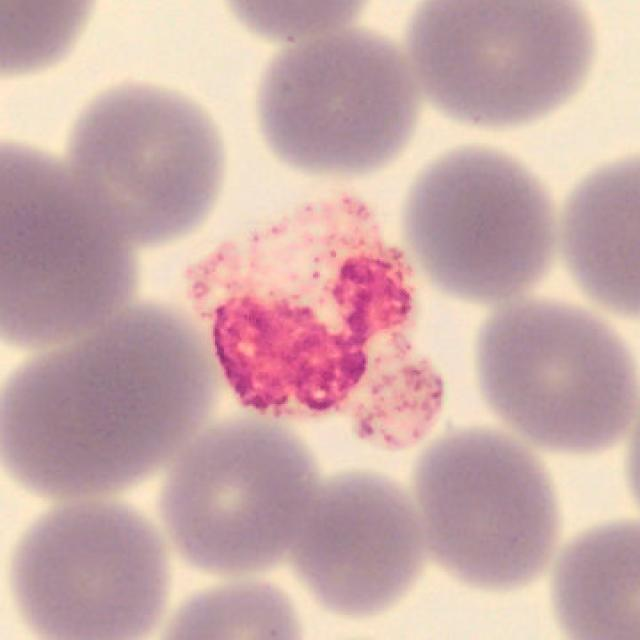Neutrofilo segmentado: (183, 197, 444, 456)
